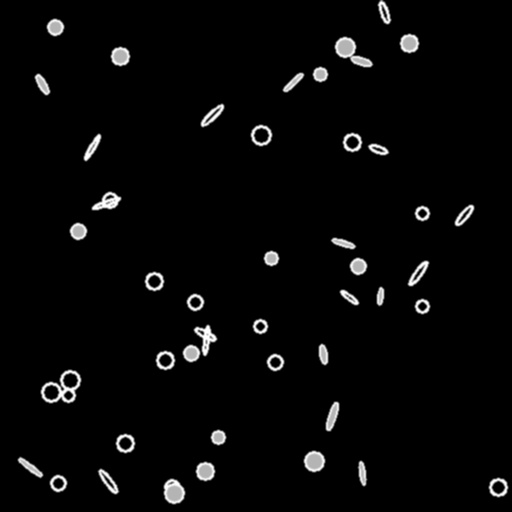pseudomonas: (199, 103, 225, 127), (97, 468, 119, 494), (407, 260, 429, 286), (17, 456, 43, 478), (83, 134, 101, 160), (454, 204, 474, 226), (283, 72, 303, 92), (325, 402, 339, 430), (92, 196, 120, 210), (193, 326, 217, 342), (377, 0, 391, 24), (34, 74, 50, 94), (340, 289, 358, 305), (331, 237, 355, 249), (350, 55, 372, 67), (368, 143, 388, 155), (202, 325, 210, 355), (318, 344, 328, 364), (358, 462, 366, 484), (376, 288, 384, 304)
synechocystis: (252, 126, 270, 144), (61, 371, 79, 389), (42, 383, 60, 401), (336, 38, 354, 56), (165, 484, 183, 502), (305, 452, 323, 470), (344, 134, 360, 150), (197, 463, 213, 479), (490, 479, 506, 495), (117, 435, 133, 451), (157, 352, 173, 368), (401, 35, 417, 51), (146, 273, 162, 289), (112, 48, 128, 64), (103, 193, 117, 207), (188, 295, 202, 309), (48, 20, 62, 34), (351, 259, 365, 273), (268, 355, 282, 369), (184, 346, 198, 360), (51, 476, 65, 490), (165, 480, 179, 494), (71, 224, 85, 238), (416, 207, 428, 219), (416, 300, 428, 312), (314, 68, 326, 80), (212, 431, 224, 443), (265, 252, 277, 264), (62, 389, 74, 401), (254, 320, 266, 332)
